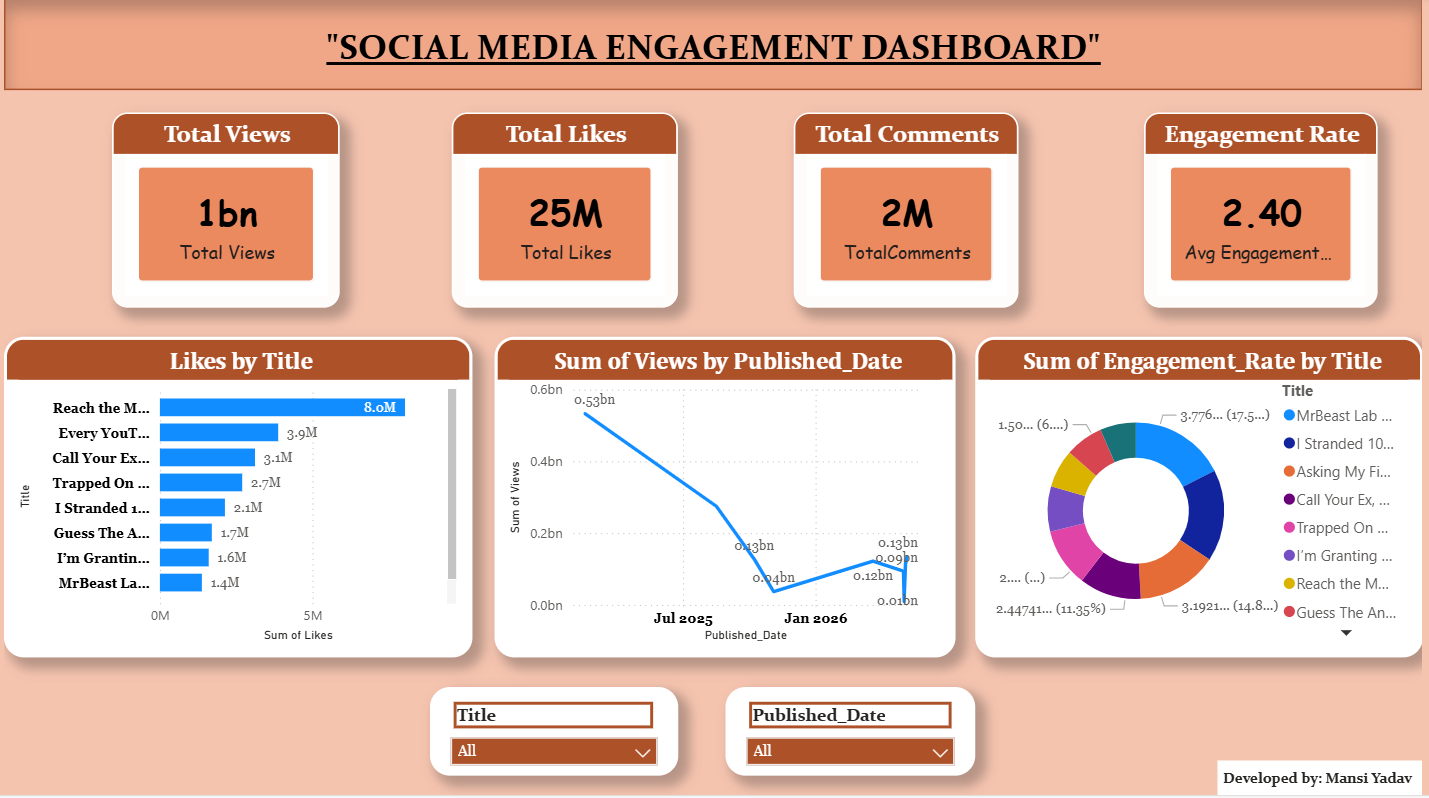

The page's visual inventory and layout, read from the dashboard file:
{"tool":"powerbi","page":{"name":"Page 1","canvas":[1280,720],"ordinal":0},"visuals":[{"type":"cardVisual","title":"Total Views","fields":{"Data":["Sum(youtube_engagement.Views)"]},"box":[97.7,104.4,205.4,175.6],"z":0},{"type":"cardVisual","title":"Total Likes","fields":{"Data":["Sum(youtube_engagement.Likes)"]},"box":[404.2,104.4,203.7,175.6],"z":1},{"type":"cardVisual","title":"Total Comments","fields":{"Data":["Sum(youtube_engagement.Comments)"]},"box":[712.3,104.4,202.1,175.6],"z":2},{"type":"cardVisual","title":"Engagement Rate","fields":{"Data":["Avg(youtube_engagement.Engagement_Rate)"]},"box":[1028.7,104.4,210.4,175.6],"z":3},{"type":"textbox","box":[0,0,1280.5,84.5],"z":5},{"type":"clusteredBarChart","title":"Likes by Title","fields":{"Category":["youtube_engagement.Title"],"Y":["Sum(youtube_engagement.Likes)"]},"box":[0,306.4,422.4,289.9],"z":6},{"type":"lineChart","fields":{"Y":["Sum(youtube_engagement.Views)"],"Category":["youtube_engagement.Published_Date"]},"box":[442.3,306.4,415.8,289.9],"z":7},{"type":"donutChart","fields":{"Category":["youtube_engagement.Title"],"Y":["Sum(youtube_engagement.Engagement_Rate)"]},"box":[876.3,306.4,404.2,289.9],"z":8},{"type":"slicer","fields":{"Values":["youtube_engagement.Published_Date"]},"box":[651,622.8,225.3,79.5],"z":9},{"type":"slicer","fields":{"Values":["youtube_engagement.Title"]},"box":[384.3,622.8,223.6,79.5],"z":10},{"type":"textbox","box":[1094.9,689.1,185.5,31.5],"z":11}]}

Visuals, with their boxes in screenshot pixels (x1, y1, x2, y2), scaled from the page's 1280x720 canvas onto the 1429x798 screenshot:
"Total Views" cardVisual: 109,116,338,310
"Total Likes" cardVisual: 451,116,679,310
"Total Comments" cardVisual: 795,116,1021,310
"Engagement Rate" cardVisual: 1148,116,1383,310
textbox: 0,0,1428,94
"Likes by Title" clusteredBarChart: 0,340,472,661
lineChart - Sum(youtube_engagement.Views) x youtube_engagement.Published_Date: 494,340,958,661
donutChart - youtube_engagement.Title x Sum(youtube_engagement.Engagement_Rate): 978,340,1428,661
slicer - youtube_engagement.Published_Date: 727,690,978,778
slicer - youtube_engagement.Title: 429,690,679,778
textbox: 1222,764,1428,797
